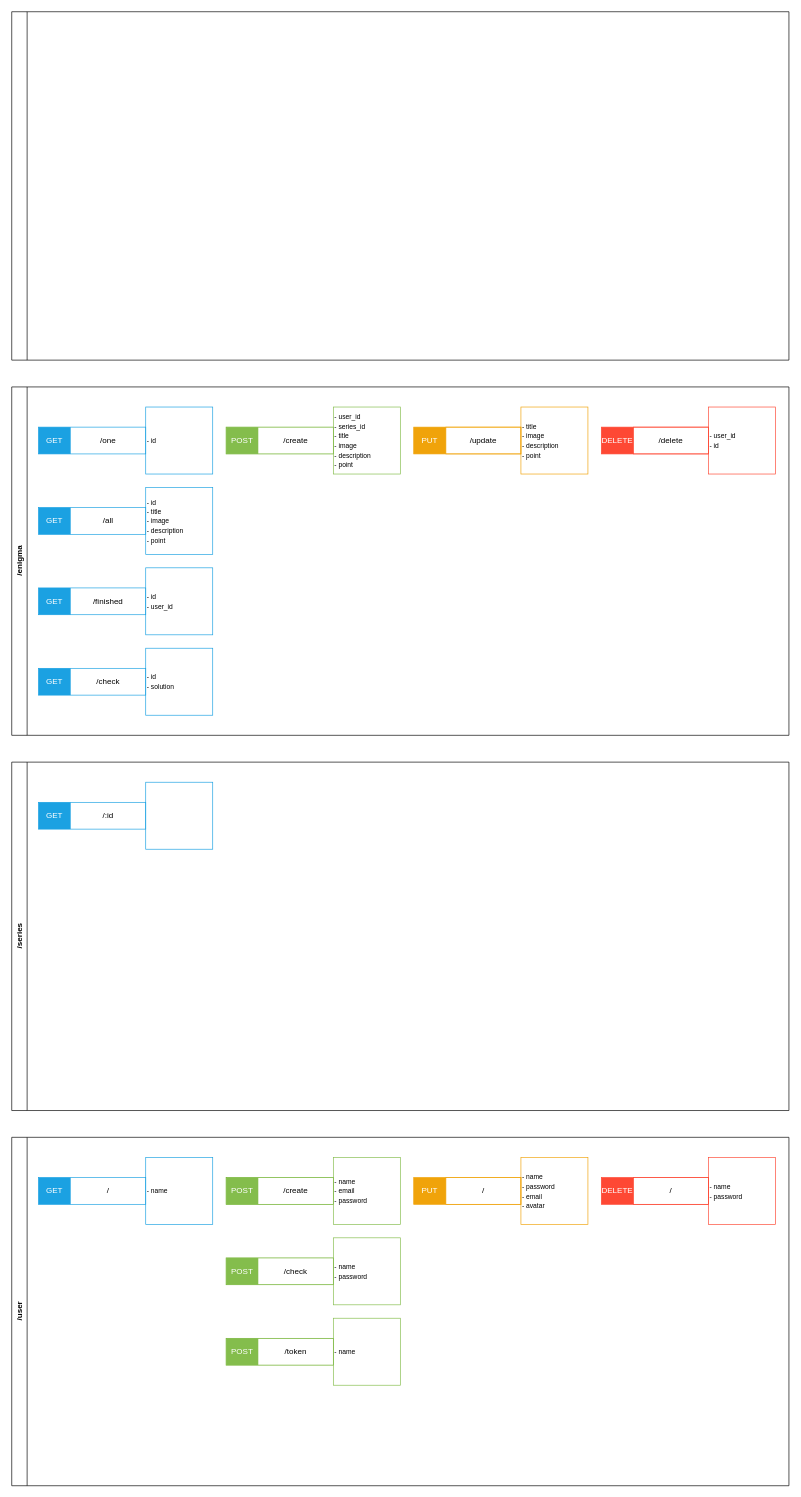
This 801x1497 diagram has some shape labels left out. The shapes that lost their labels are listed below. From the top down, each one's centre as x and y in pixels, then its label:
(x=400, y=185): /achievement
(x=179, y=815): - id: series_id
